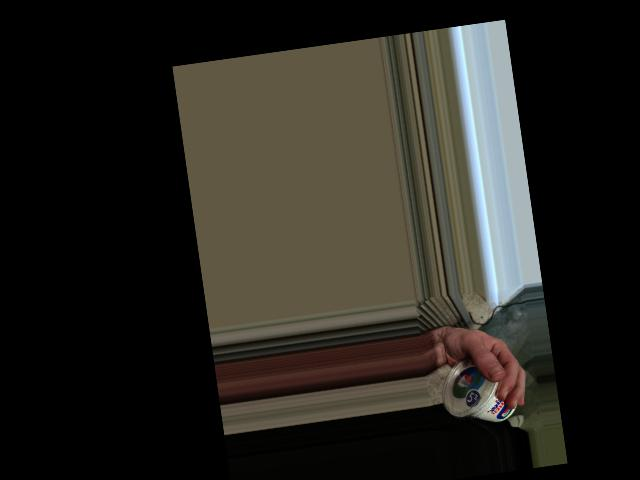cotage: (434, 353, 521, 429)
